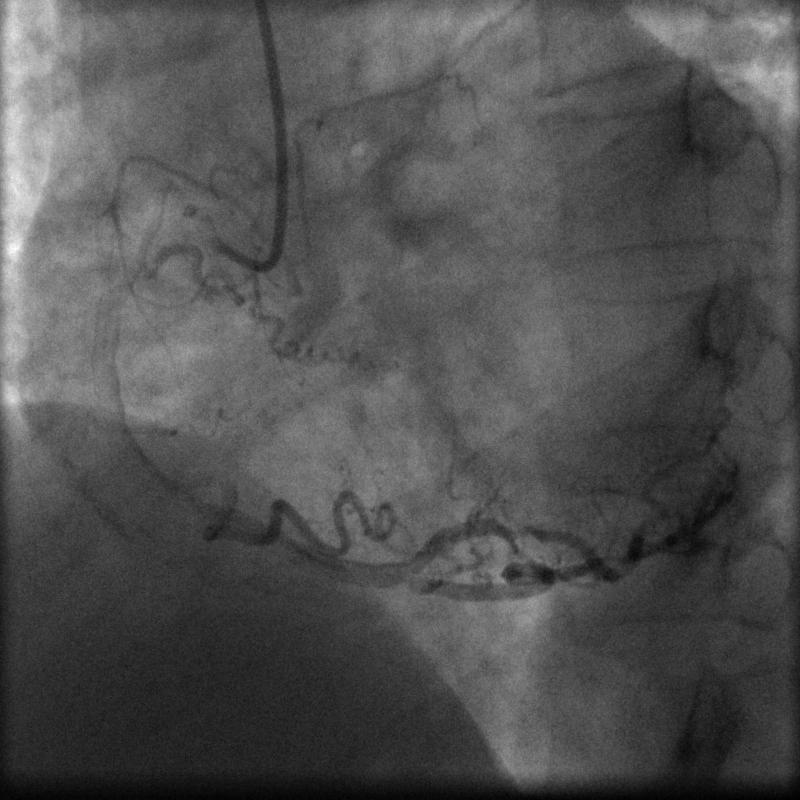Stenosis: (493, 511, 541, 547)
